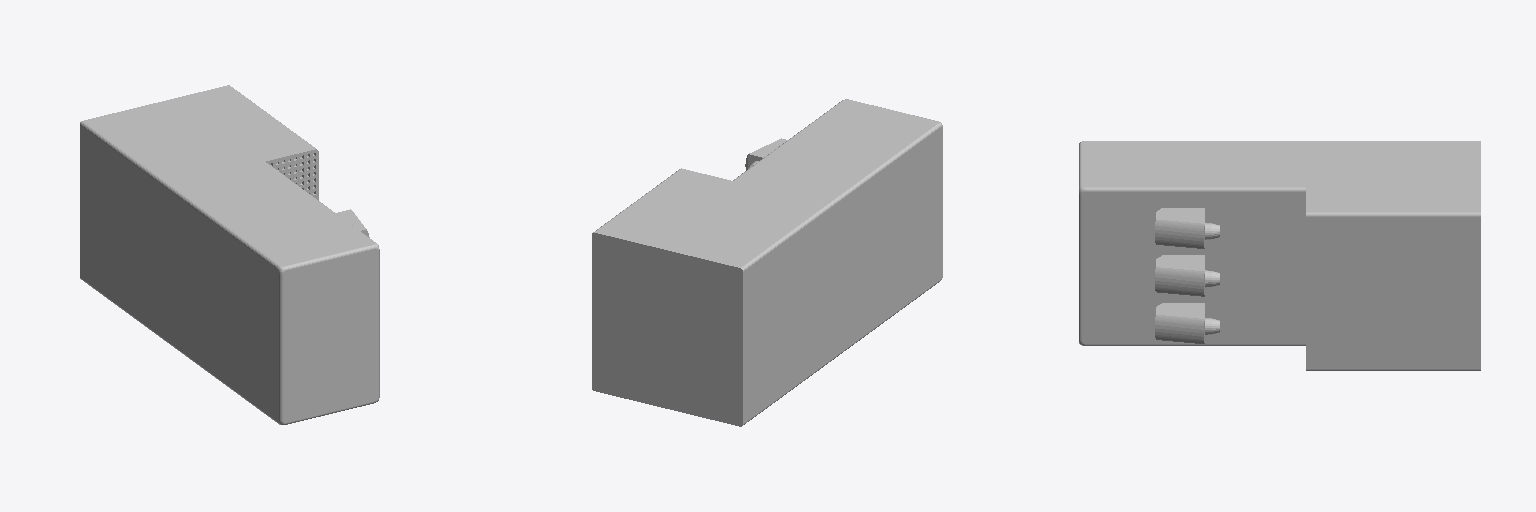
File: Soda Machine.obj
3 views of the same model, side by side, from view 1: azimuth 30°, elevation 25°; view 2: azimuth 150°, elevation 25°; view 3: azimuth 270°, elevation 25° (orthographic).
Parts seen in each view (by area): view 1: Body1:3; view 2: Body1:3; view 3: Body1:3, Body2, Body2:2, Body2:1, Body1, Body1:1, Body1:2.
Boxes of the visible parts, x1,y1,x2,y2 form: Body1:3: [80, 85, 379, 424]; Body1:3: [592, 99, 942, 426]; Body1:3: [1079, 141, 1480, 370]; Body2: [1155, 267, 1204, 296]; Body2:2: [1155, 219, 1204, 248]; Body2:1: [1155, 315, 1204, 343]; Body1: [1156, 255, 1219, 287]; Body1:1: [1156, 303, 1219, 334]; Body1:2: [1156, 208, 1219, 239].
Bounding box in the file's own units: 5 × 5 × 11.5.